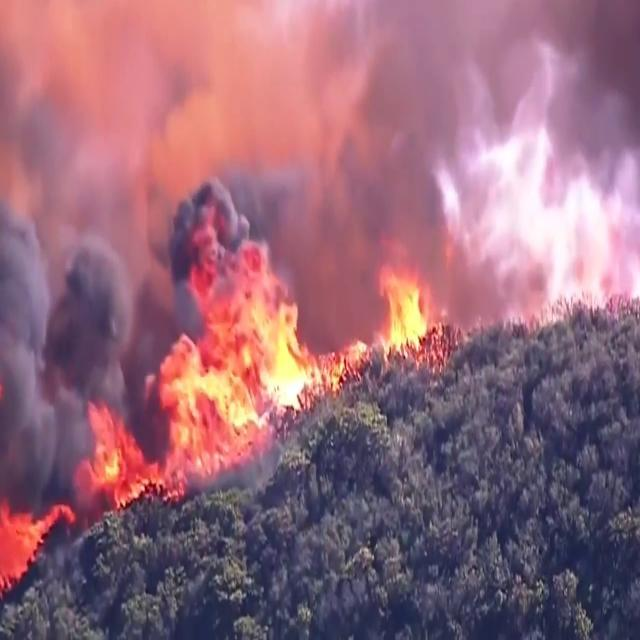Fire: (1, 242, 454, 592)
Smoke: (0, 1, 640, 520)
